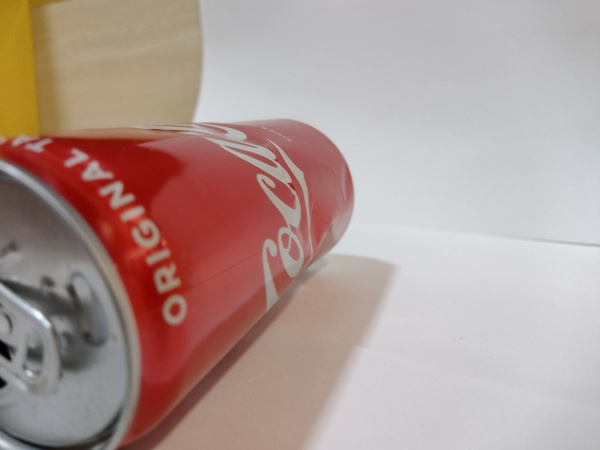can: (2, 114, 358, 447)
